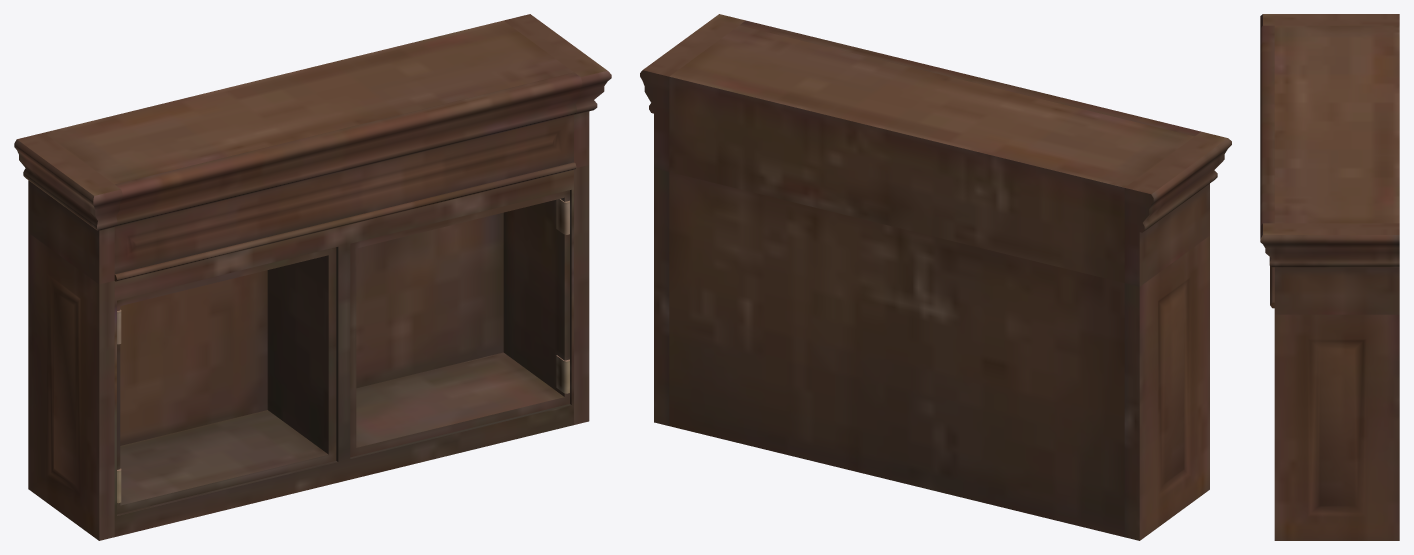
File: SM_BookShelf04_490430.glb
The picture shows the model from 3 angles, left to right: view 1: azimuth 30°, elevation 25°; view 2: azimuth 150°, elevation 25°; view 3: azimuth 270°, elevation 25°; orthographic projection. The views are drawn at different scales.
Bounding box in the file's own units: 1.69 × 1.1 × 0.446.
Materials: 1 (1 with a texture image).
